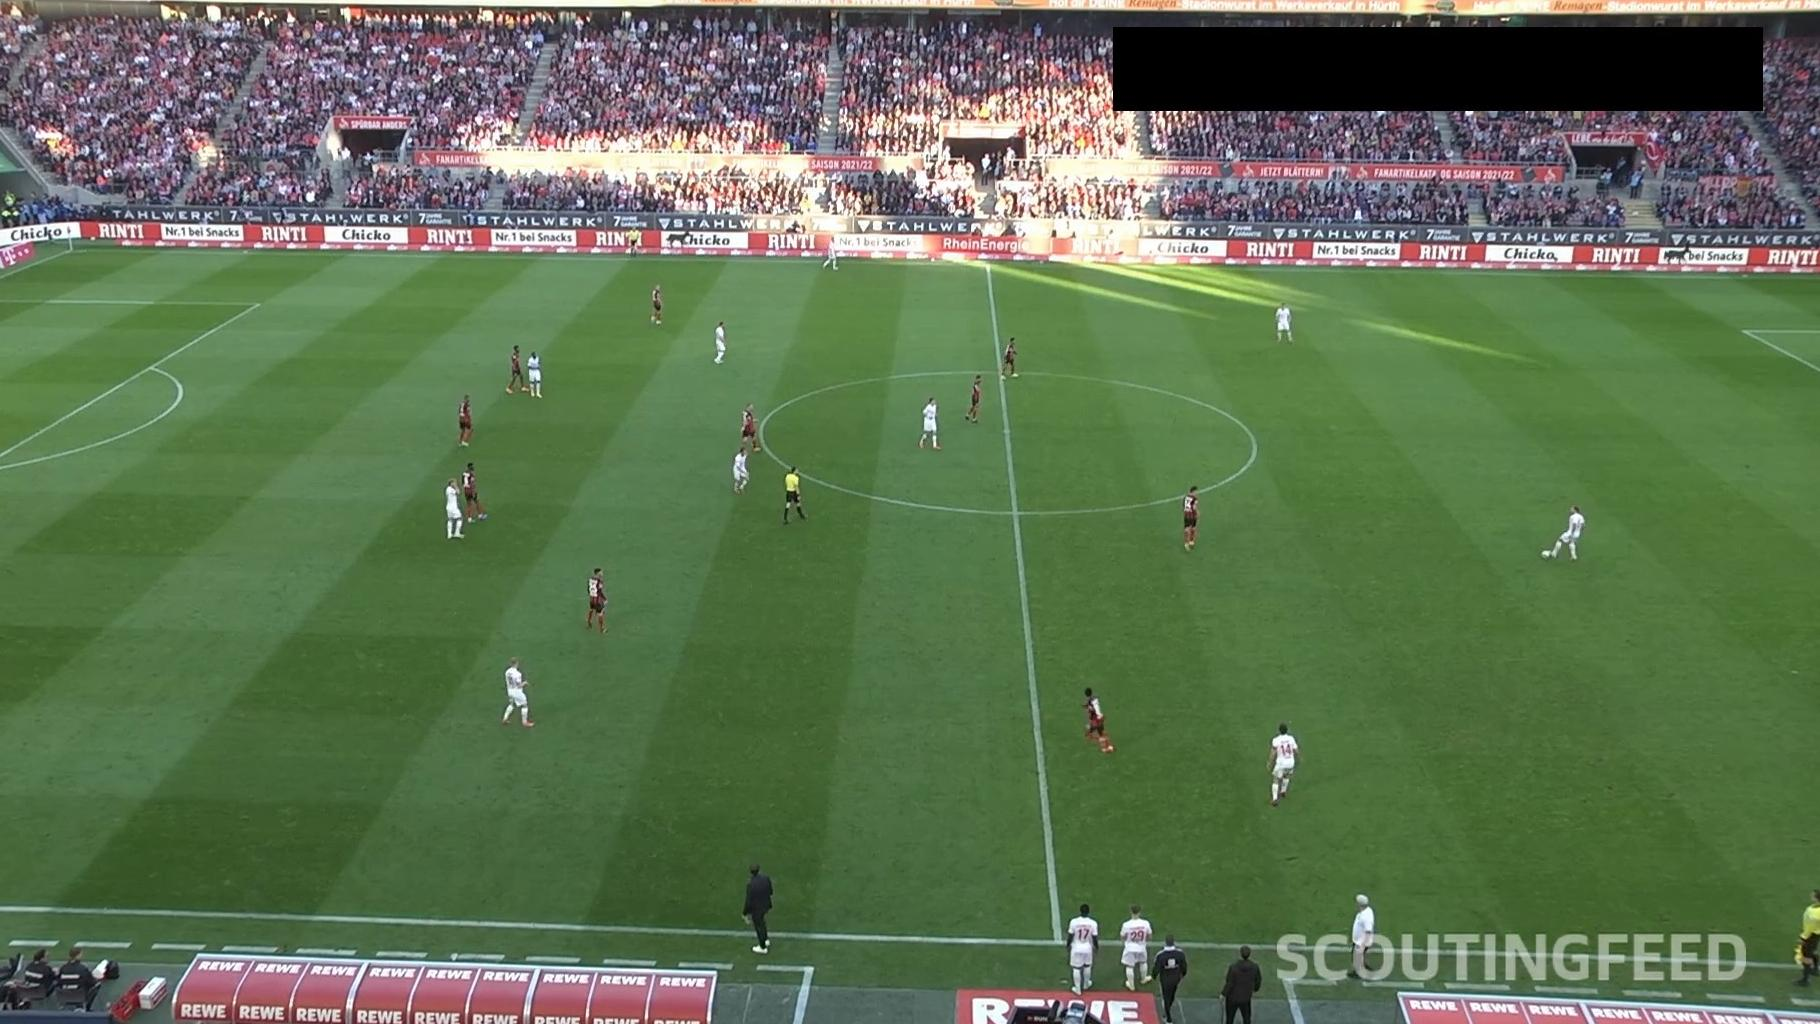ball: (1541, 549, 1551, 559)
